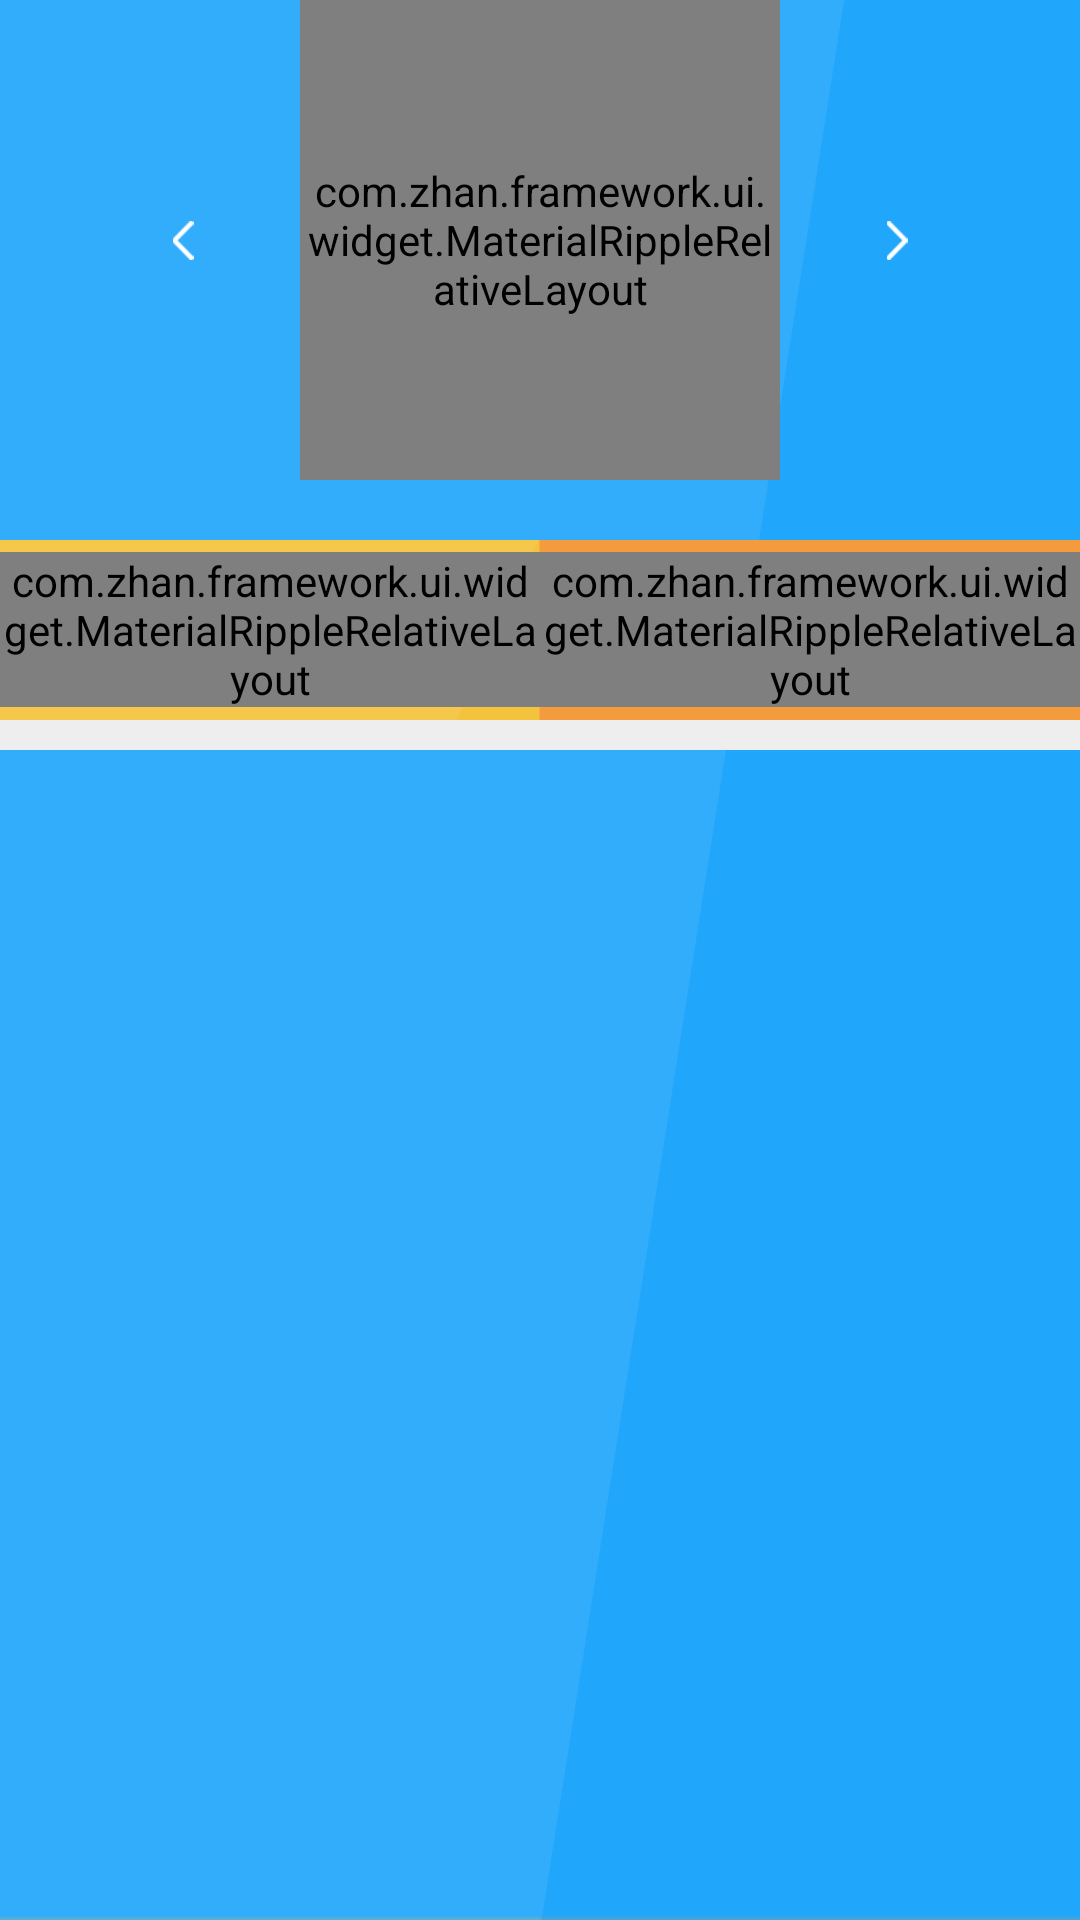

Where to tap for icons on this 1080*1920 app screen, as (x=x, y=y):
arrow left: (x=183, y=240)
arrow right write: (x=897, y=240)
